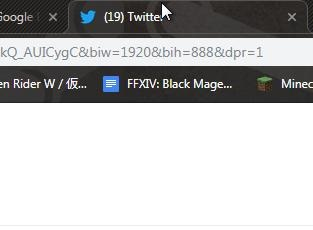cursor: (160, 2, 173, 21)
